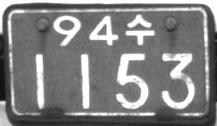1: (69, 53, 106, 109), (24, 54, 56, 109)
3: (159, 51, 196, 110)
4: (87, 14, 118, 46)
5: (115, 52, 149, 110)
9: (51, 13, 81, 46)
수: (125, 13, 155, 46)
